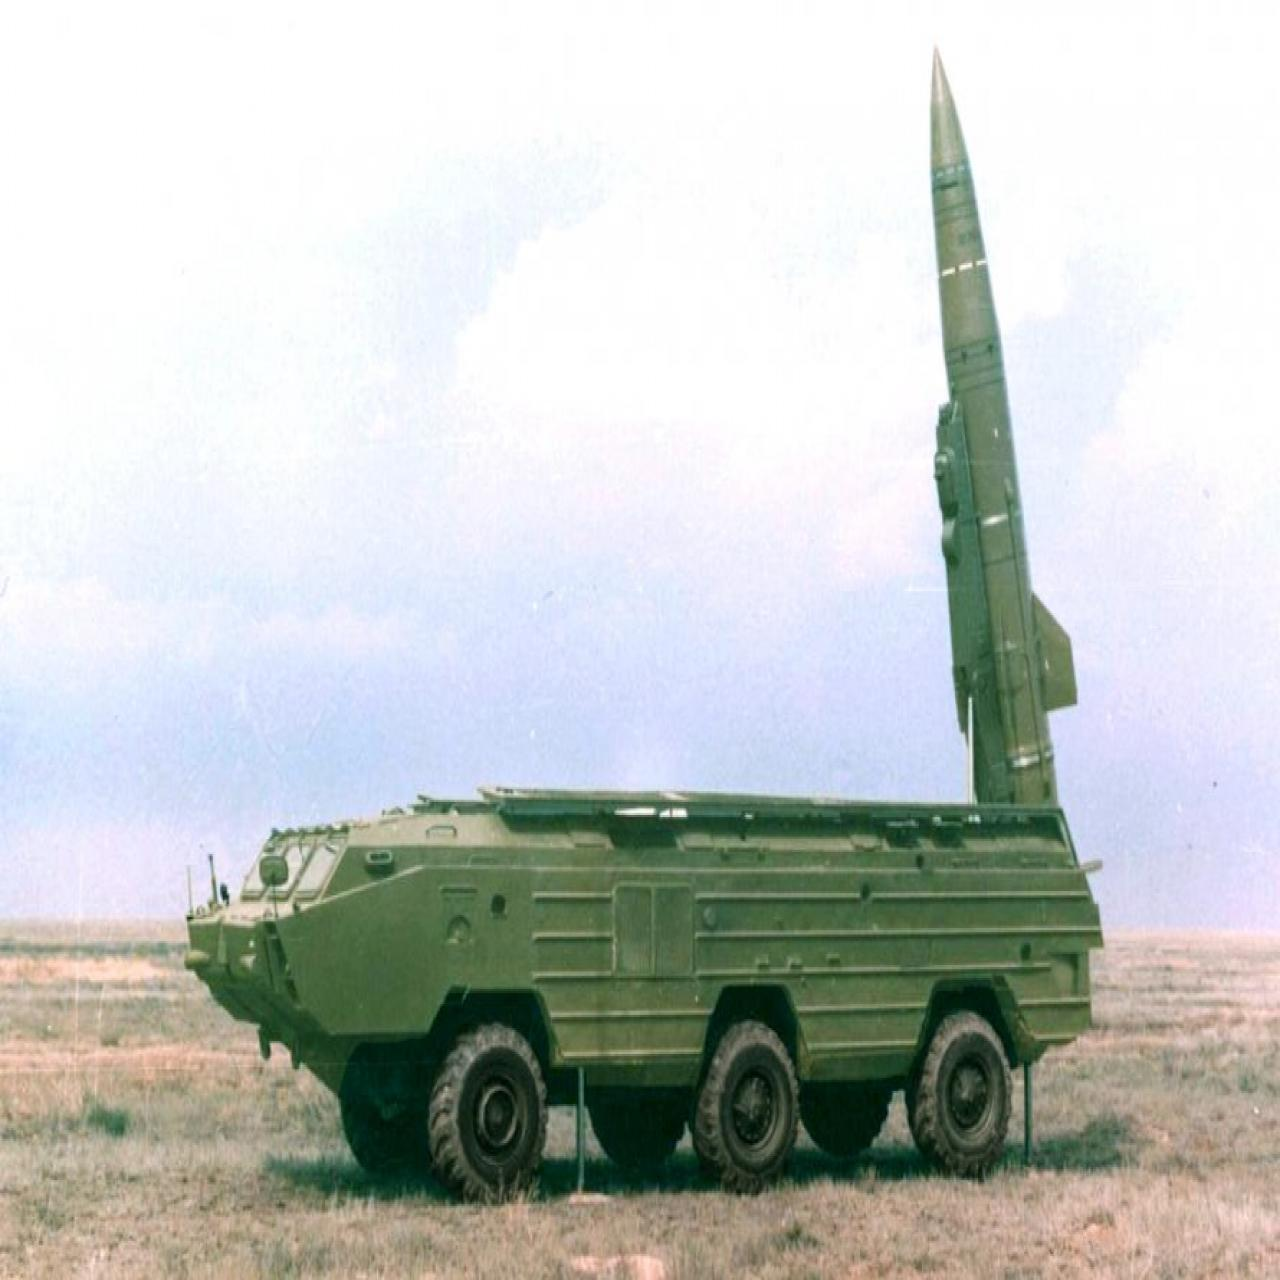MIL_Veh: (190, 47, 1109, 1203)
